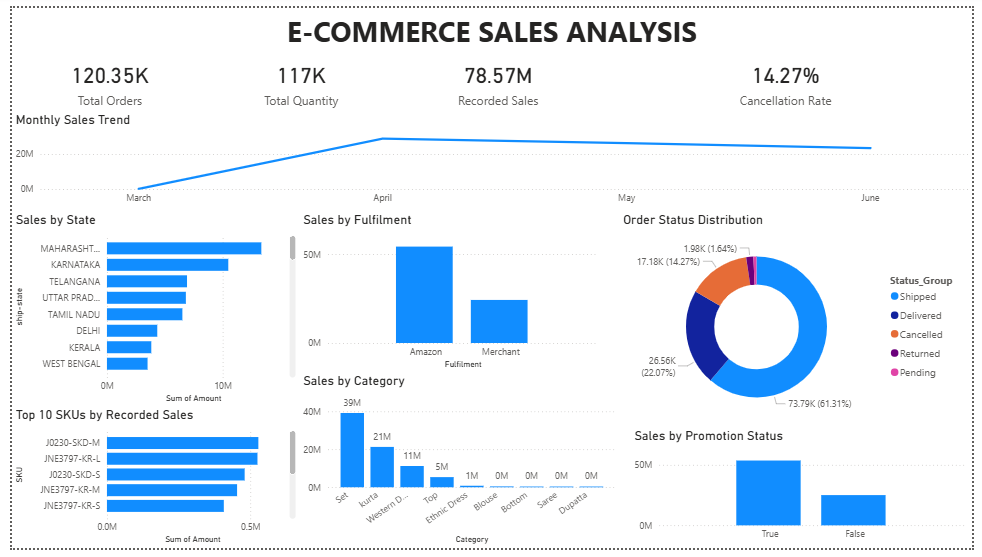

The dashboard page shown, as its layout file describes it:
{"tool":"powerbi","page":{"name":"Page 1","canvas":[1280,720],"ordinal":0},"visuals":[{"type":"card","fields":{"Values":["Count(cleaned_amazon_sales.Order ID)"]},"box":[0,60,261.7,78.3],"z":0},{"type":"card","fields":{"Values":["Sum(cleaned_amazon_sales.Amount)"]},"box":[510,60,276.7,78.3],"z":1000},{"type":"card","fields":{"Values":["Sum(cleaned_amazon_sales.Qty)"]},"box":[261.7,60,248.3,78.3],"z":2000},{"type":"lineChart","title":"Monthly Sales Trend","fields":{"Category":["cleaned_amazon_sales.Month_Name"],"Y":["Sum(cleaned_amazon_sales.Amount)"]},"box":[0,138.3,1280,133.3],"z":3000},{"type":"clusteredColumnChart","title":"Sales by Category","fields":{"Category":["cleaned_amazon_sales.Category"],"Y":["Sum(cleaned_amazon_sales.Amount)"]},"box":[398.3,486.7,426.7,233.3],"z":4000},{"type":"clusteredBarChart","title":"Sales by State","fields":{"Category":["cleaned_amazon_sales.ship-state"],"Y":["Sum(cleaned_amazon_sales.Amount)"]},"box":[0,271.7,398.3,260],"z":5000},{"type":"clusteredColumnChart","title":"Sales by Fulfilment","fields":{"Category":["cleaned_amazon_sales.Fulfilment"],"Y":["Sum(cleaned_amazon_sales.Amount)"]},"box":[398.3,271.7,426.7,215],"z":6000},{"type":"donutChart","title":"Order Status Distribution","fields":{"Category":["cleaned_amazon_sales.Status_Group"],"Y":["Count(cleaned_amazon_sales.Order ID)"]},"box":[825,271.7,451.7,288.3],"z":7000},{"type":"clusteredColumnChart","title":"Sales by Promotion Status","fields":{"Category":["cleaned_amazon_sales.Promotion_Used"],"Y":["Sum(cleaned_amazon_sales.Amount)"]},"box":[825,560,451.7,160],"z":8000},{"type":"clusteredBarChart","title":"Top 10 SKUs by Recorded Sales","fields":{"Category":["cleaned_amazon_sales.SKU"],"Y":["Sum(cleaned_amazon_sales.Amount)"]},"box":[0,531.7,398.3,188.3],"z":9000},{"type":"textbox","box":[0,0,1280,60],"z":10000},{"type":"card","fields":{"Values":["cleaned_amazon_sales.Cancellation Rate"]},"box":[786.7,60,490,78.3],"z":11000}]}

Visuals, with their boxes in screenshot pixels (x1, y1, x2, y2), scaled from the page's 1280x720 canvas onto the 982x557 screenshot:
card - Count(cleaned_amazon_sales.Order ID): box=[0, 46, 201, 107]
card - Sum(cleaned_amazon_sales.Amount): box=[391, 46, 604, 107]
card - Sum(cleaned_amazon_sales.Qty): box=[201, 46, 391, 107]
"Monthly Sales Trend" lineChart: box=[0, 107, 981, 210]
"Sales by Category" clusteredColumnChart: box=[306, 377, 633, 556]
"Sales by State" clusteredBarChart: box=[0, 210, 306, 411]
"Sales by Fulfilment" clusteredColumnChart: box=[306, 210, 633, 377]
"Order Status Distribution" donutChart: box=[633, 210, 979, 433]
"Sales by Promotion Status" clusteredColumnChart: box=[633, 433, 979, 556]
"Top 10 SKUs by Recorded Sales" clusteredBarChart: box=[0, 411, 306, 556]
textbox: box=[0, 0, 981, 46]
card - cleaned_amazon_sales.Cancellation Rate: box=[604, 46, 979, 107]
